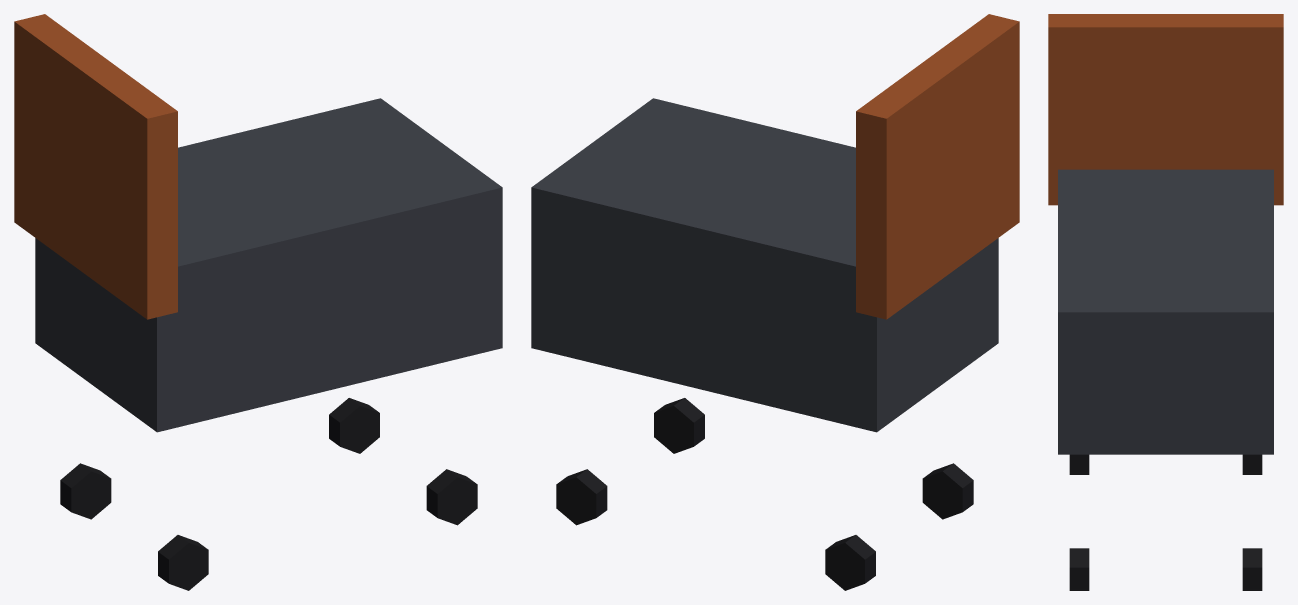
The model's file is abandoned_shopping_cart.glb.
3 views of the same model, side by side, from view 1: azimuth 30°, elevation 25°; view 2: azimuth 150°, elevation 25°; view 3: azimuth 270°, elevation 25° (orthographic). The views are drawn at different scales.
Parts seen in each view (by area): view 1: abandoned_shopping_cart; view 2: abandoned_shopping_cart; view 3: abandoned_shopping_cart.
Boxes of the visible parts, left/top/right/bottom form: abandoned_shopping_cart: left=14, top=14, right=502, bottom=590; abandoned_shopping_cart: left=531, top=14, right=1019, bottom=590; abandoned_shopping_cart: left=1048, top=14, right=1283, bottom=590.
Bounding box in the file's own units: 0.94 × 1.23 × 0.6.
